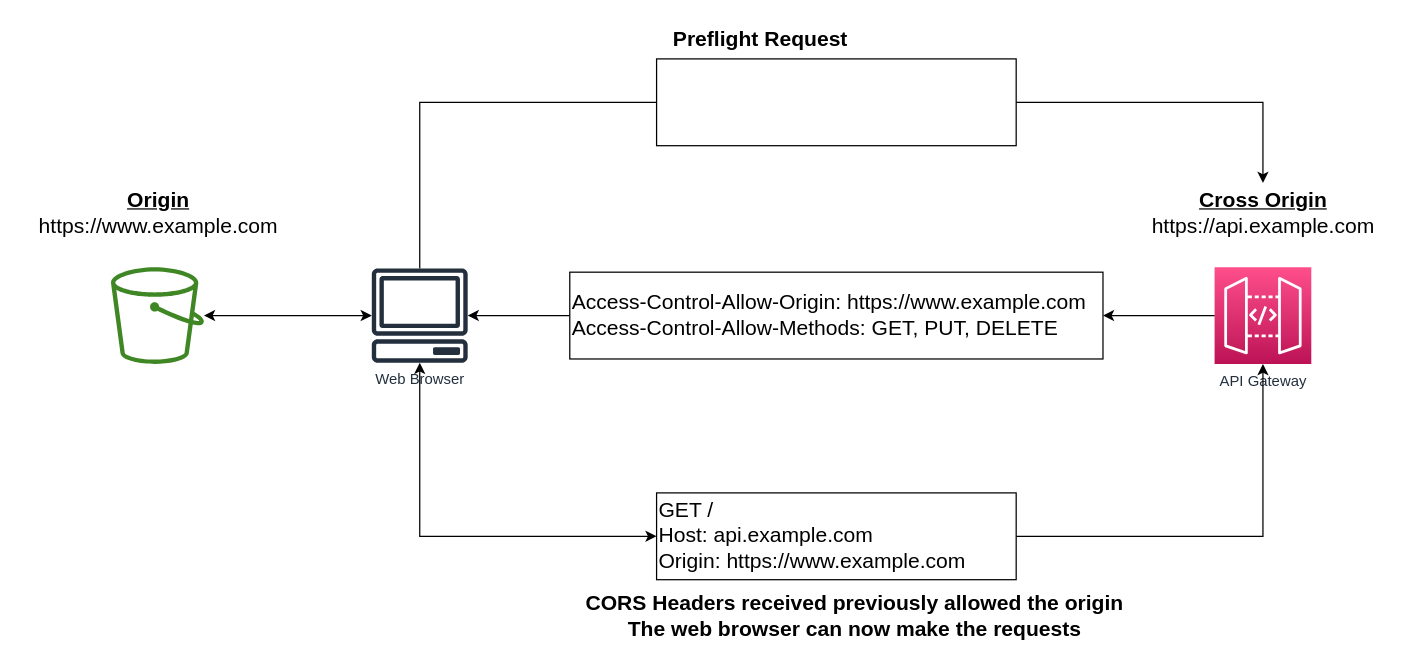
Image size: 1409x663. Some labels were removed from this diagram. The centre of each missing label's shape, as x and y in pixels:
"OPTIONS / Host: api.example.com Origin: https://www.example.com" goes at (835,102).
"S3 bucket static content" goes at (156,315).
